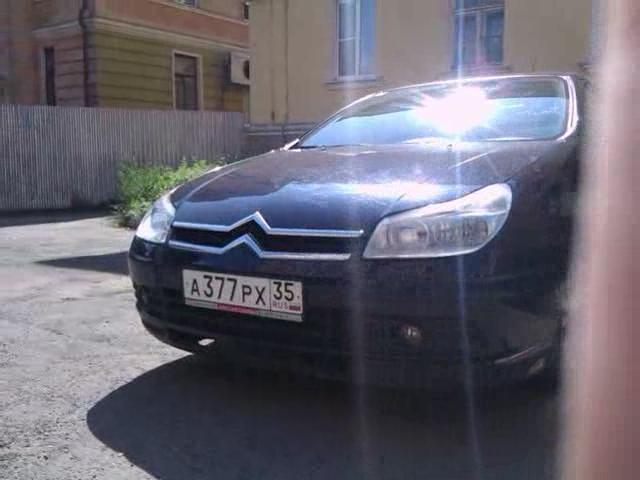license-plateSW: (180, 269, 302, 318)
